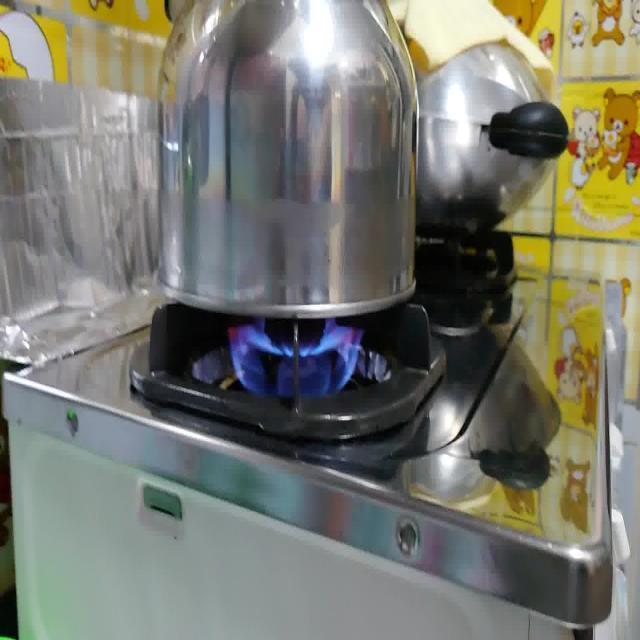Flame: (212, 323, 379, 405)
Pan: (144, 2, 446, 314)
